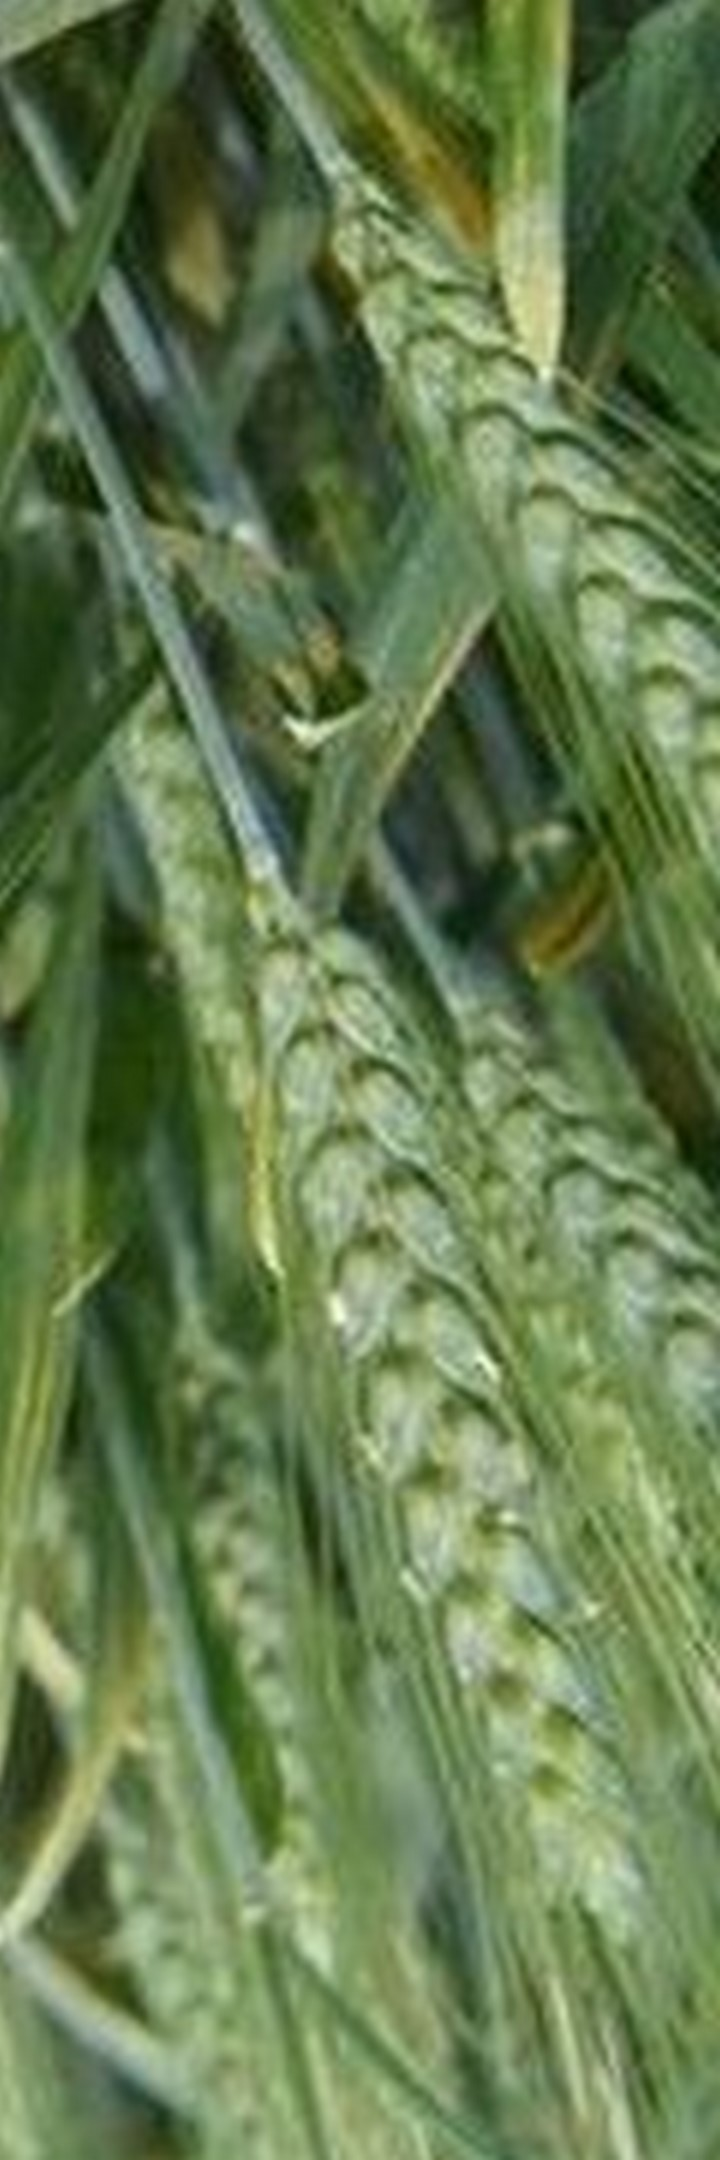Healthy Wheat: (191, 898, 698, 1986)
